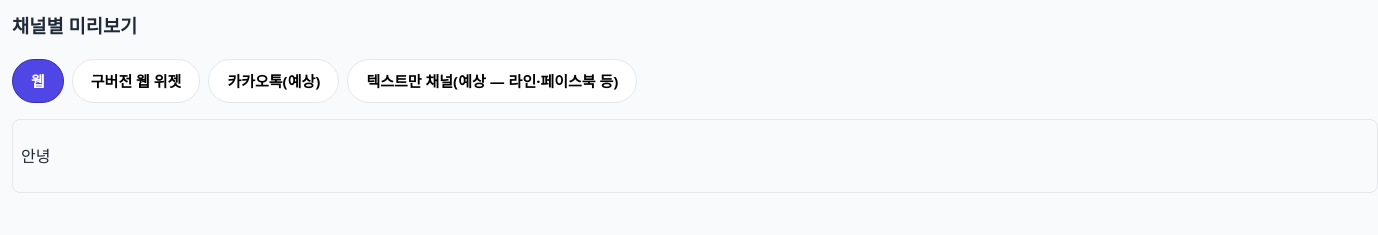
Scenario: ChannelPreviewSection — RM-3(§3.3) › 카카오톡(예상) 탭은 "예상 모습" 배지를 보여준다
The width and height of the screenshot is (1378, 235).
Click the tab "카카오톡(예상)".
click(274, 80)  # box [208,58,339,102]
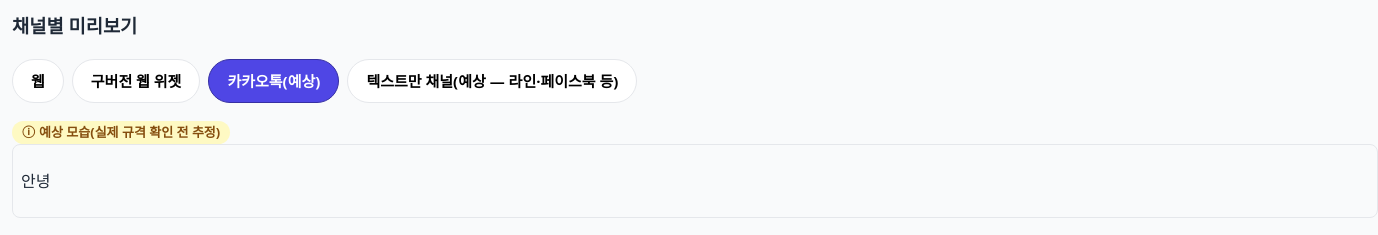
expect the text "예상 모습(실제 규격 확인 전 추정)" is shown: met, box [39,122,220,140]
